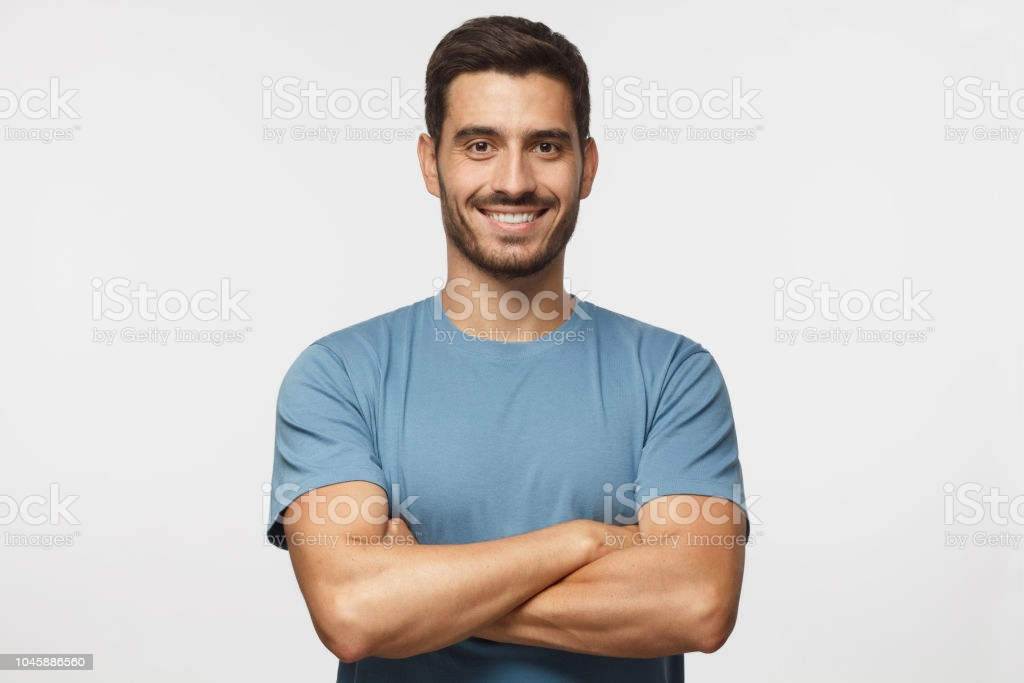Without Helmet: (411, 17, 610, 301)
